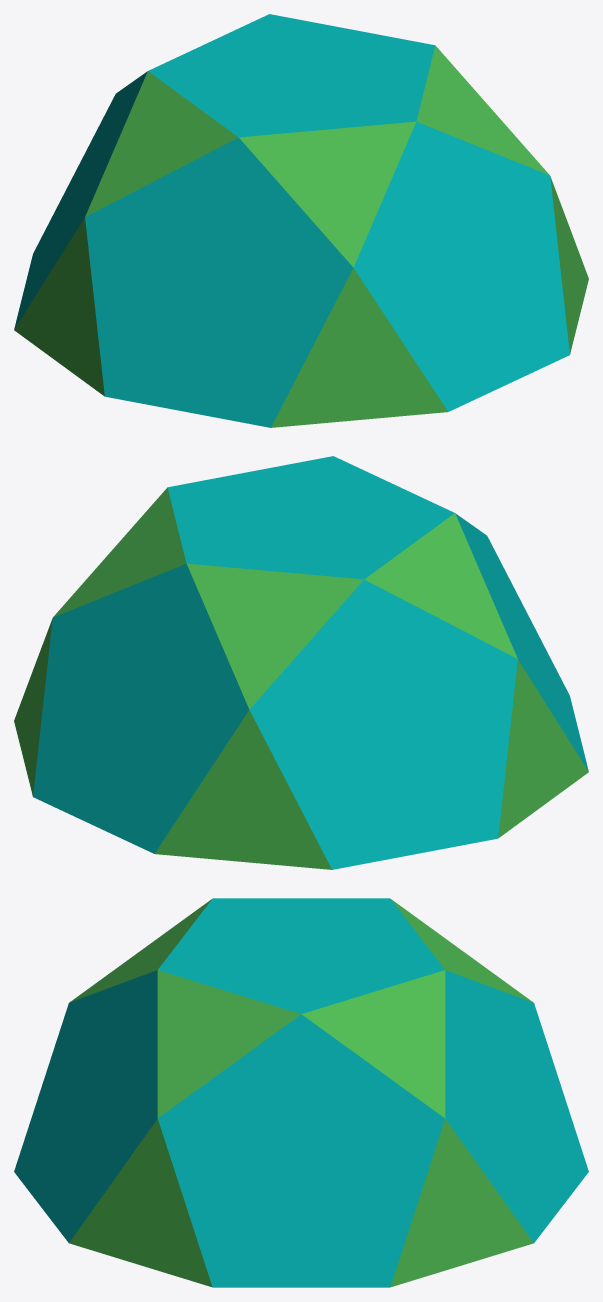
File: J6.RotondaPentagonal.gltf
The picture shows the model from 3 angles, top to bottom: view 1: azimuth 30°, elevation 25°; view 2: azimuth 150°, elevation 25°; view 3: azimuth 270°, elevation 25°; orthographic projection. The views are drawn at different scales.
Parts seen in each view (by area): view 1: J6.Rotondapentagonal; view 2: J6.Rotondapentagonal; view 3: J6.Rotondapentagonal.
Boxes of the visible parts, <box> form: J6.Rotondapentagonal: <box>14,14,588,427</box>; J6.Rotondapentagonal: <box>14,456,588,869</box>; J6.Rotondapentagonal: <box>14,898,588,1287</box>.
Size of the model in its own units: 19.02 by 8.51 by 20.
